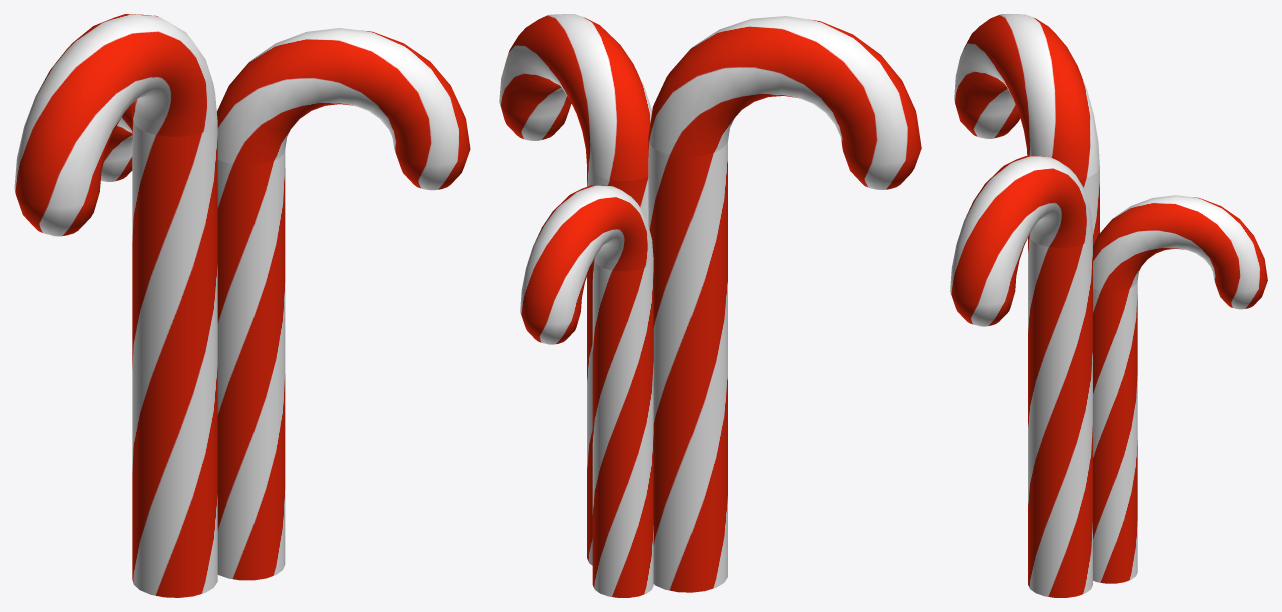
The model's file is Candy_Cane_Triple_01.fbx.
3 views of the same model, side by side, from view 1: azimuth 30°, elevation 25°; view 2: azimuth 150°, elevation 25°; view 3: azimuth 270°, elevation 25° (orthographic). The views are drawn at different scales.
Parts seen in each view (by area): view 1: Candy_Cane_Triple_01; view 2: Candy_Cane_Triple_01; view 3: Candy_Cane_Triple_01.
Part boxes in pixels (bbox=[...]): Candy_Cane_Triple_01: bbox=[14, 14, 470, 597]; Candy_Cane_Triple_01: bbox=[499, 14, 921, 597]; Candy_Cane_Triple_01: bbox=[950, 14, 1267, 597].
Size of the model in its own units: 221 by 284 by 163.
